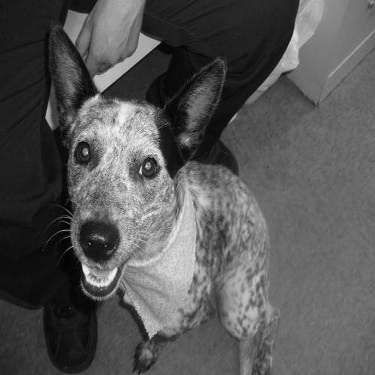dog: (26, 14, 282, 373)
